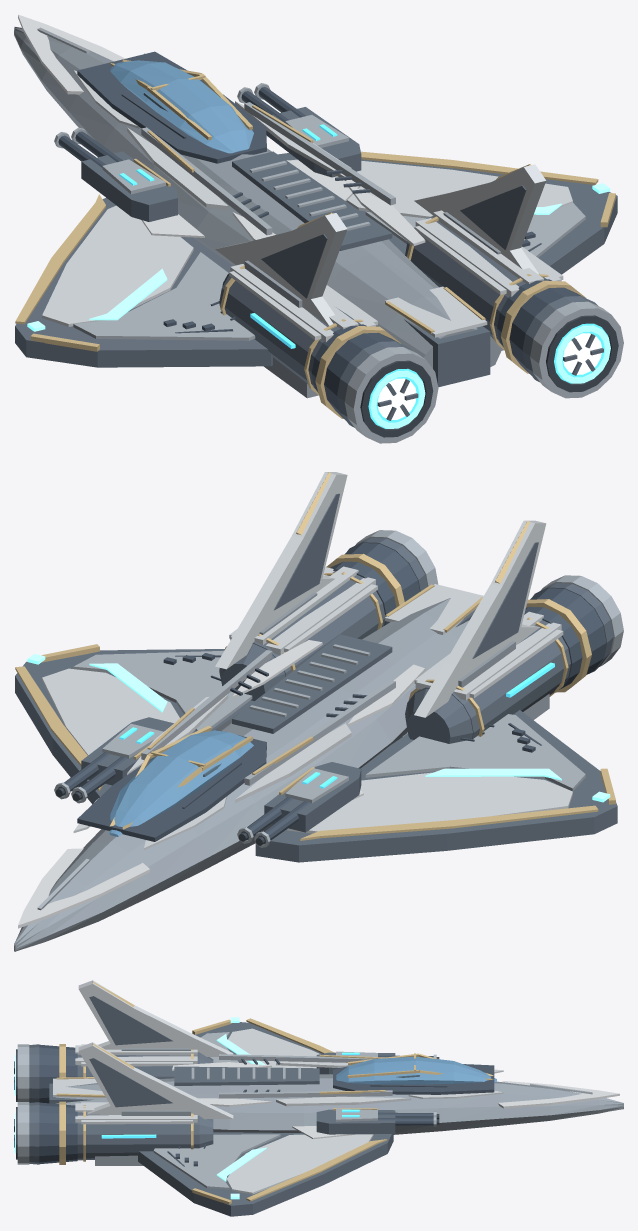
Rendered from NX02_style_corvette.glb.
3 views of the same model, one above another, from view 1: azimuth 30°, elevation 25°; view 2: azimuth 150°, elevation 25°; view 3: azimuth 270°, elevation 25° (orthographic). The views are drawn at different scales.
Visible parts, largest first — view 1: Corvette_dark, Corvette_titanium, Corvette_mid, Corvette_hull, Corvette_carbon, Corvette_gold, Corvette_glass, Corvette_light, Corvette_cyan, Corvette_black, Corvette_cyan_bright, Corvette_cyan_dim; view 2: Corvette_dark, Corvette_titanium, Corvette_hull, Corvette_mid, Corvette_carbon, Corvette_gold, Corvette_glass, Corvette_light, Corvette_cyan, Corvette_cyan_dim; view 3: Corvette_dark, Corvette_titanium, Corvette_hull, Corvette_mid, Corvette_carbon, Corvette_gold, Corvette_glass, Corvette_light, Corvette_cyan, Corvette_cyan_dim.
Part boxes in pixels (left/top/right/bottom): Corvette_dark: left=15, top=107, right=617, bottom=428; Corvette_titanium: left=42, top=53, right=572, bottom=342; Corvette_mid: left=37, top=27, right=623, bottom=443; Corvette_hull: left=14, top=27, right=503, bottom=398; Corvette_carbon: left=58, top=51, right=584, bottom=420; Corvette_gold: left=15, top=59, right=615, bottom=418; Corvette_glass: left=110, top=60, right=253, bottom=153; Corvette_light: left=18, top=14, right=425, bottom=246; Corvette_cyan: left=27, top=183, right=610, bottom=428; Corvette_black: left=360, top=315, right=618, bottom=437; Corvette_cyan_bright: left=377, top=333, right=601, bottom=419; Corvette_cyan_dim: left=119, top=124, right=608, bottom=428; Corvette_dark: left=15, top=493, right=617, bottom=862; Corvette_titanium: left=42, top=472, right=572, bottom=850; Corvette_hull: left=14, top=592, right=549, bottom=951; Corvette_mid: left=37, top=530, right=623, bottom=910; Corvette_carbon: left=58, top=543, right=606, bottom=844; Corvette_gold: left=15, top=472, right=615, bottom=840; Corvette_glass: left=109, top=730, right=253, bottom=836; Corvette_light: left=18, top=640, right=425, bottom=928; Corvette_cyan: left=27, top=654, right=610, bottom=802; Corvette_cyan_dim: left=119, top=662, right=554, bottom=788; Corvette_dark: left=14, top=996, right=395, bottom=1216; Corvette_titanium: left=53, top=980, right=503, bottom=1194; Corvette_hull: left=55, top=1048, right=623, bottom=1165; Corvette_mid: left=17, top=1032, right=592, bottom=1189; Corvette_carbon: left=39, top=1044, right=494, bottom=1166; Corvette_gold: left=56, top=981, right=493, bottom=1204; Corvette_glass: left=336, top=1056, right=496, bottom=1084; Corvette_light: left=172, top=1062, right=619, bottom=1138; Corvette_cyan: left=15, top=1017, right=266, bottom=1199; Corvette_cyan_dim: left=101, top=1052, right=359, bottom=1138.
Bounding box in the file's own units: 9.76 × 2.98 × 13.63.
